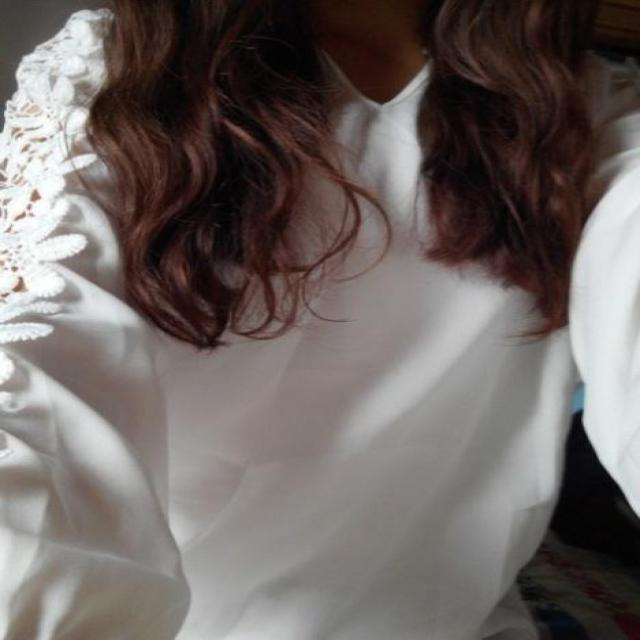short-sleeve-dress: (4, 15, 640, 630)
